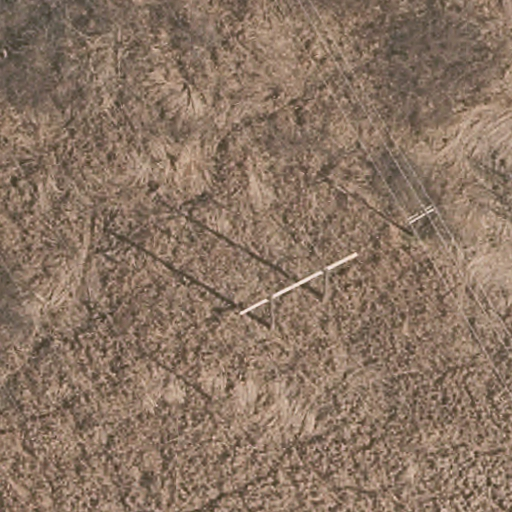DT: (406, 202, 442, 236)
